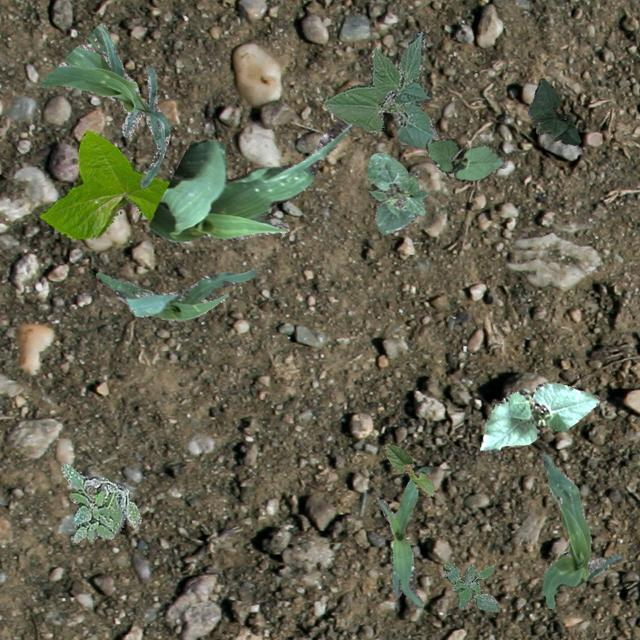crop: (148, 118, 354, 242), (40, 22, 168, 186), (38, 128, 168, 238), (324, 30, 436, 146), (540, 452, 622, 608), (478, 380, 598, 452), (95, 268, 256, 320), (376, 466, 430, 606), (366, 152, 428, 234), (424, 138, 506, 182), (526, 78, 580, 144), (384, 442, 434, 494)
weed: (59, 462, 140, 542), (442, 560, 498, 610)
